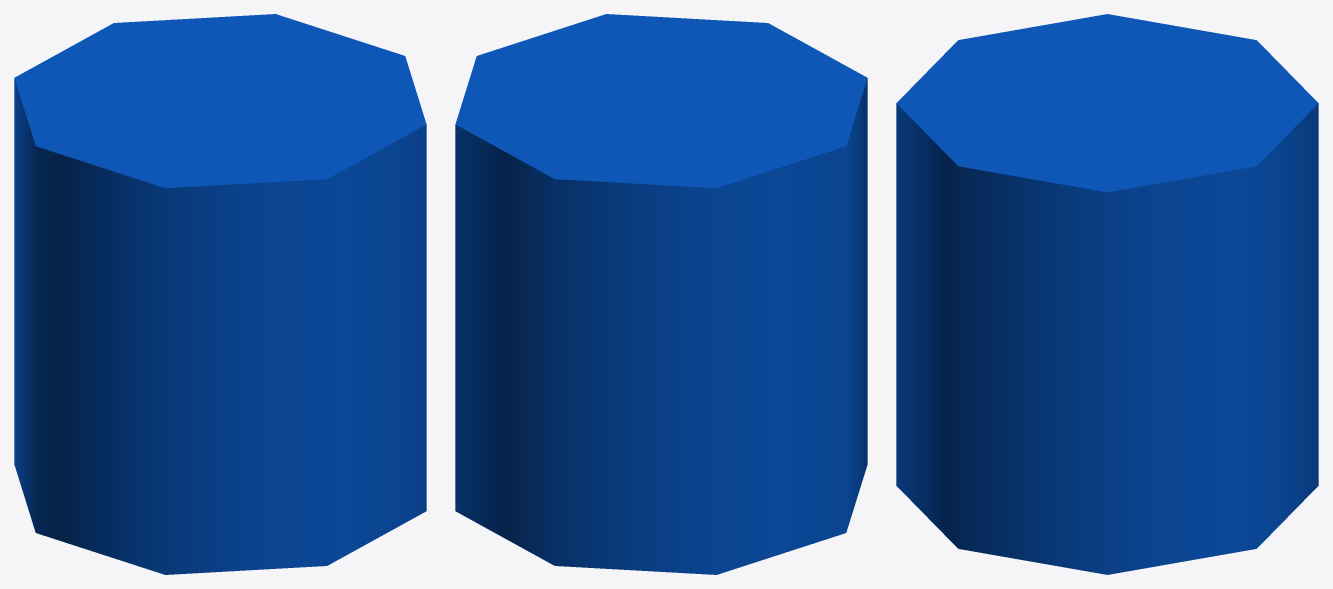
The picture shows the model from 3 angles, left to right: view 1: azimuth 30°, elevation 25°; view 2: azimuth 150°, elevation 25°; view 3: azimuth 270°, elevation 25°; orthographic projection.
Visible parts, largest first — view 1: obj2; view 2: obj2; view 3: obj2.
Boxes of the visible parts, x1,y1,x2,y2 form: obj2: [14, 14, 426, 574]; obj2: [455, 14, 867, 574]; obj2: [896, 14, 1318, 574].
Bounding box in the file's own units: 200 × 200 × 200.
